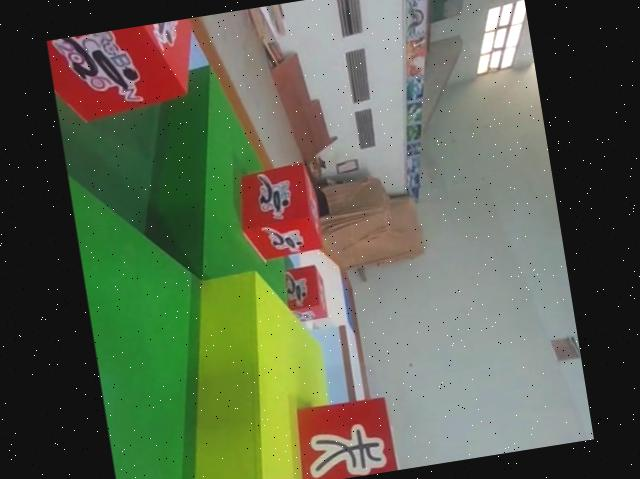R1: (46, 17, 210, 126), (228, 156, 330, 266), (277, 258, 333, 328)
R2 Fake: (283, 387, 403, 479)
